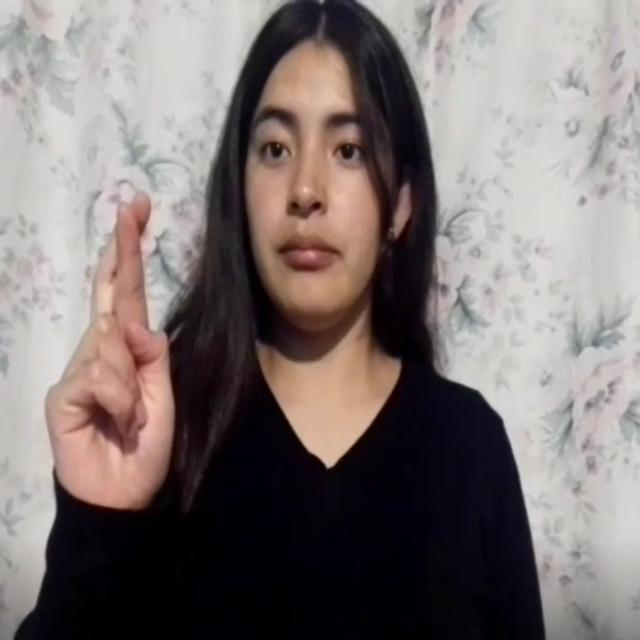R: (42, 152, 205, 504)
